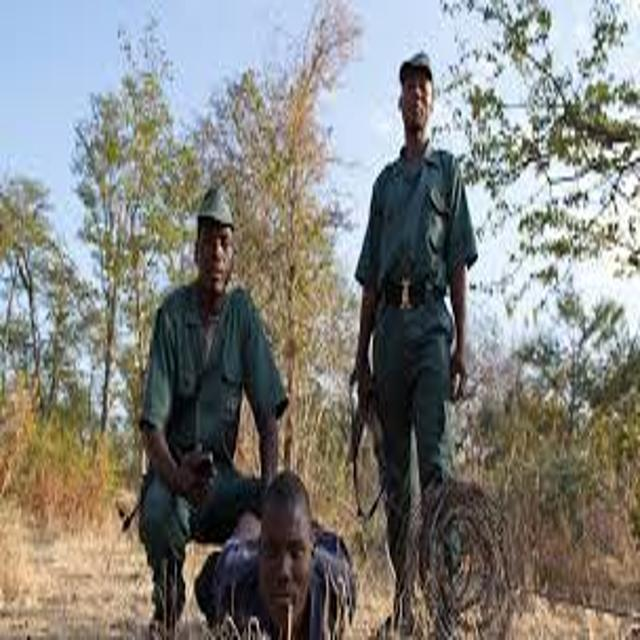poacher: (143, 451, 454, 640)
ranger: (314, 30, 511, 638), (94, 169, 324, 639)
